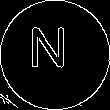N_S: (35, 29, 75, 81)
